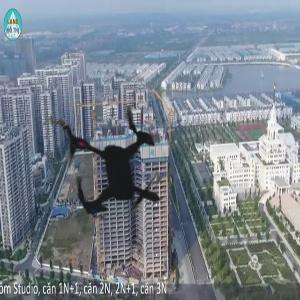drone: (2, 49, 241, 288)
